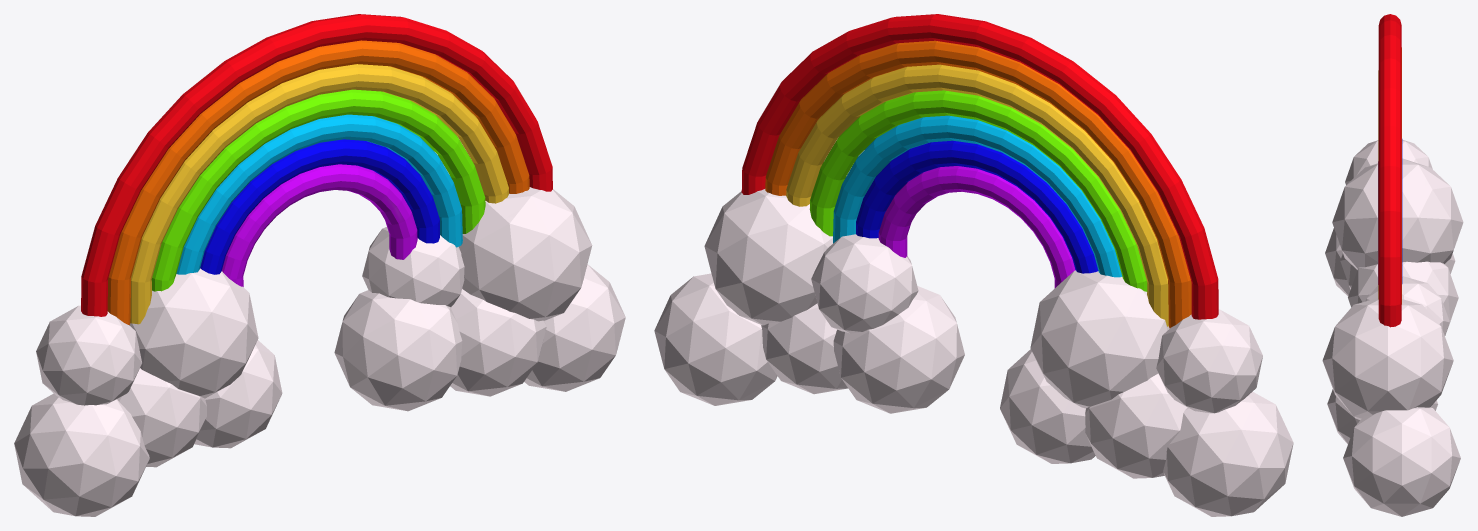
The model's file is rainbow.obj.
3 renders of one model, left to right at view 1: azimuth 30°, elevation 25°; view 2: azimuth 150°, elevation 25°; view 3: azimuth 270°, elevation 25°, orthographic. The views are drawn at different scales.
Visible parts, largest first — view 1: Icosphere.025_Icosphere.040, Torus_Torus.001; view 2: Icosphere.025_Icosphere.040, Torus_Torus.001; view 3: Icosphere.025_Icosphere.040, Torus_Torus.001.
Boxes of the visible parts, x1=… form: Icosphere.025_Icosphere.040: x1=14, y1=187, x2=625, y2=516; Torus_Torus.001: x1=81, y1=14, x2=552, y2=324; Icosphere.025_Icosphere.040: x1=654, y1=189, x2=1293, y2=516; Torus_Torus.001: x1=741, y1=14, x2=1218, y2=328; Icosphere.025_Icosphere.040: x1=1322, y1=139, x2=1463, y2=516; Torus_Torus.001: x1=1378, y1=14, x2=1402, y2=327.
Bounding box in the file's own units: 2.45 × 1.66 × 0.5746.
